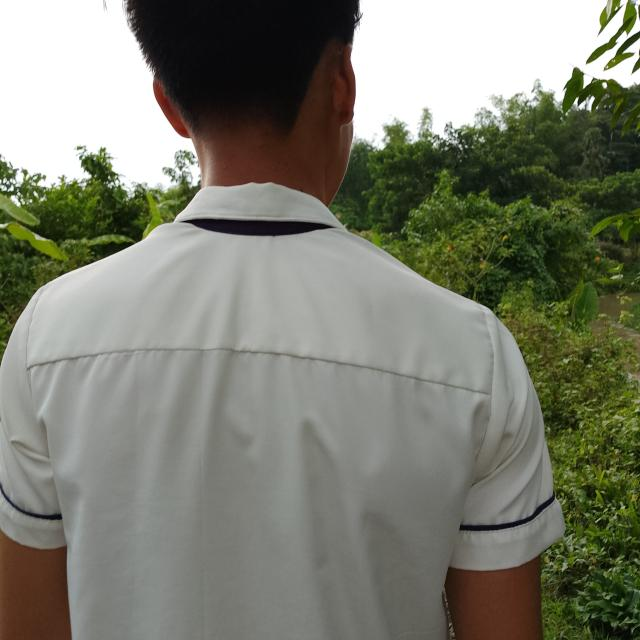education_male_uniform: (0, 180, 585, 586)
